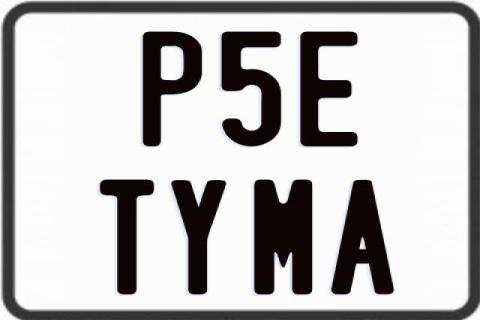0: (219, 31, 279, 149)
A: (331, 178, 394, 294)
E: (300, 29, 363, 150)
M: (253, 177, 311, 293)
P: (140, 31, 202, 149)
T: (98, 179, 152, 297)
Y: (168, 179, 225, 299)
